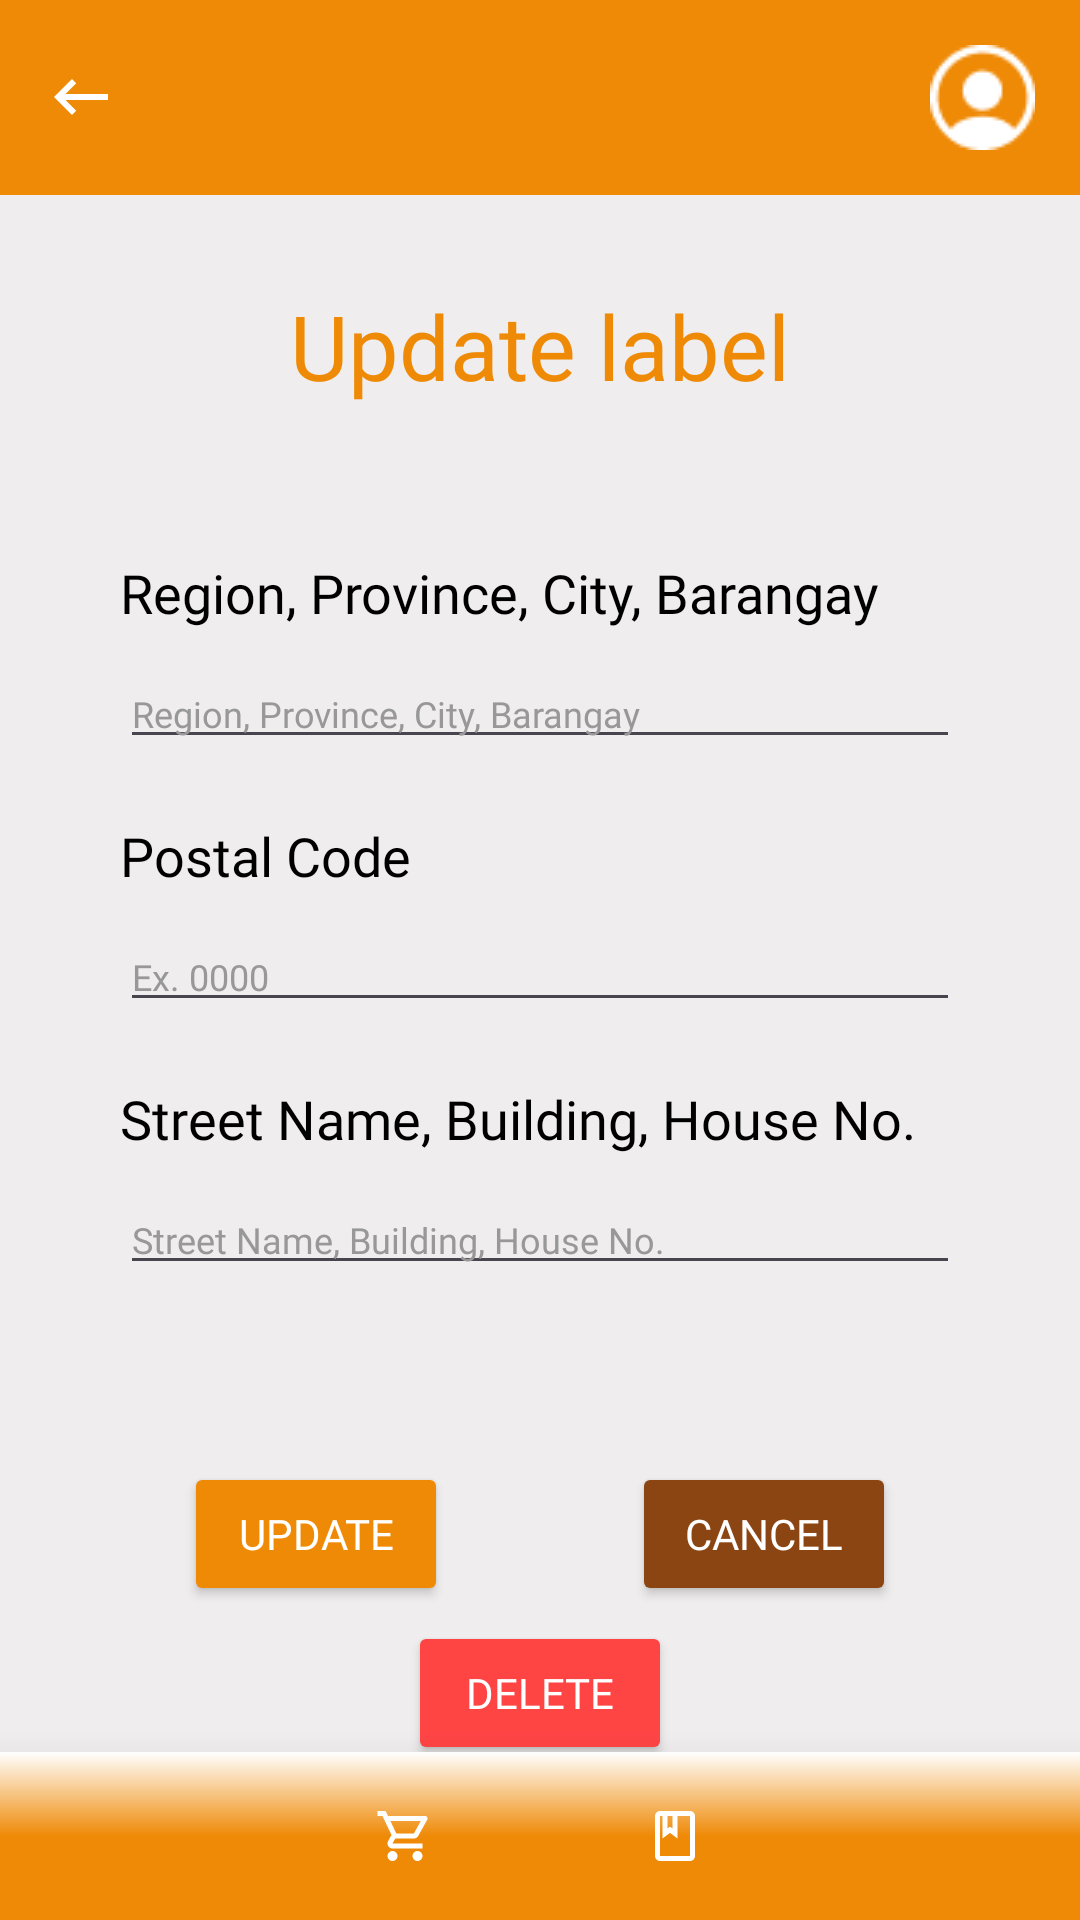

Icon bounding boxes for this 1080*1920 phone screenshot, format (x1,y1,x2,y2):
back: (54,79,108,115)
